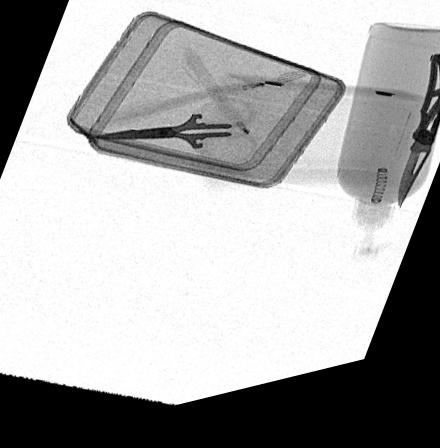Knife: (397, 75, 440, 229)
Scissors: (90, 108, 262, 179)
